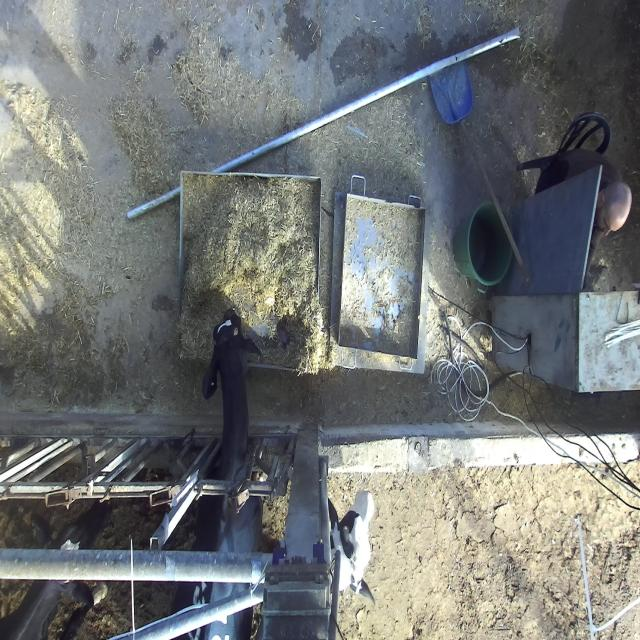cow: (326, 489, 376, 604), (202, 310, 263, 402)
